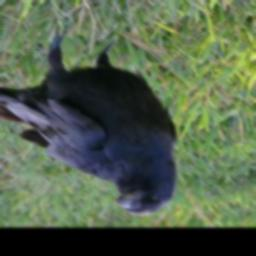Crow: (0, 21, 177, 217)
